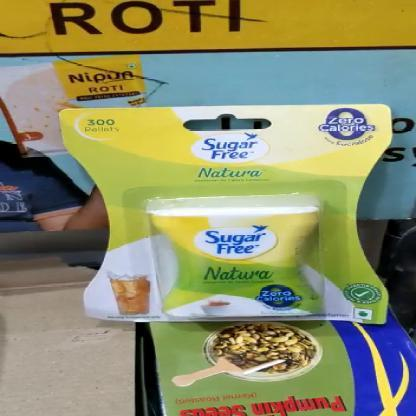SUGAR FREE NATURA 500 PELLET: (60, 107, 389, 325)
